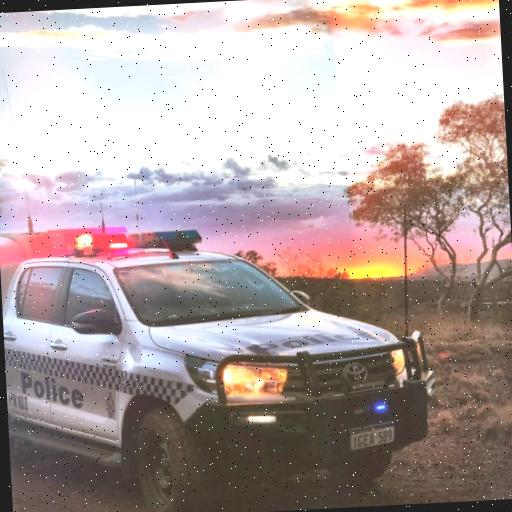Ambulance: (1, 207, 446, 512)
